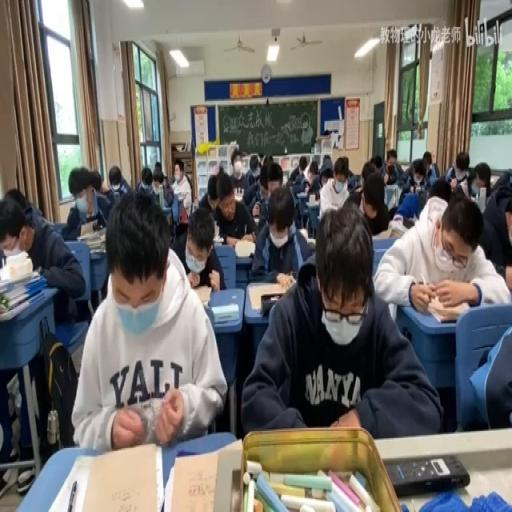calculator: (42, 442, 163, 509), (163, 448, 227, 512), (425, 297, 466, 323), (210, 300, 238, 322), (190, 283, 213, 307), (389, 216, 410, 236), (234, 238, 256, 256), (371, 228, 391, 238), (298, 226, 310, 240), (90, 246, 106, 256), (307, 196, 319, 208), (211, 234, 224, 244), (233, 186, 242, 200), (296, 190, 307, 198), (252, 216, 259, 225)
paper: (240, 199, 435, 440), (72, 190, 222, 454), (0, 184, 87, 480), (467, 319, 512, 428), (182, 206, 226, 294), (211, 170, 256, 250), (479, 171, 512, 273), (66, 166, 112, 235), (356, 169, 391, 235), (318, 156, 352, 219), (170, 155, 192, 228), (402, 155, 431, 198), (445, 151, 471, 192), (393, 189, 421, 223), (468, 162, 491, 202), (106, 164, 131, 200), (197, 171, 218, 209), (266, 162, 284, 201), (4, 186, 29, 214), (137, 165, 158, 196), (426, 175, 452, 200), (382, 150, 400, 186), (288, 155, 306, 182), (360, 160, 374, 188), (304, 156, 317, 184), (160, 180, 173, 208), (258, 159, 268, 192), (229, 148, 240, 171), (428, 161, 439, 179), (370, 154, 382, 170), (340, 155, 350, 174), (248, 158, 258, 173), (322, 174, 332, 188), (209, 162, 219, 176), (218, 158, 228, 171), (100, 180, 109, 194), (422, 156, 430, 170), (322, 155, 330, 168), (266, 155, 272, 165), (322, 128, 330, 135)
person: (386, 452, 470, 495), (259, 292, 284, 314), (230, 468, 242, 510)
